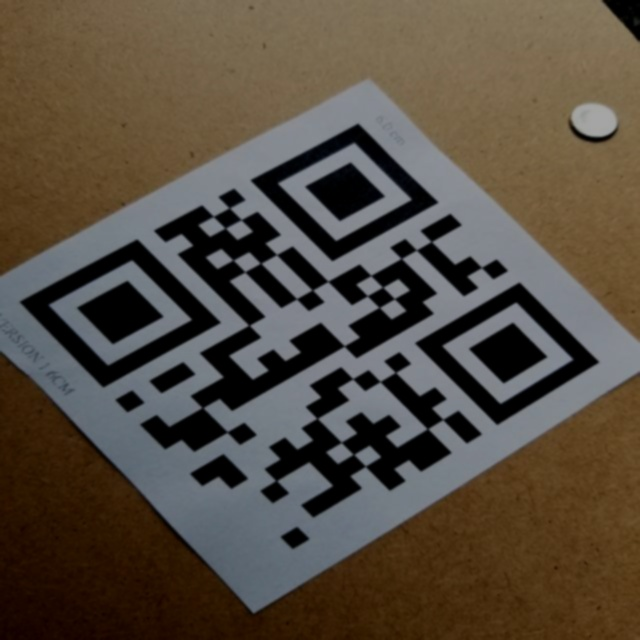qr-code: (10, 110, 616, 570)
